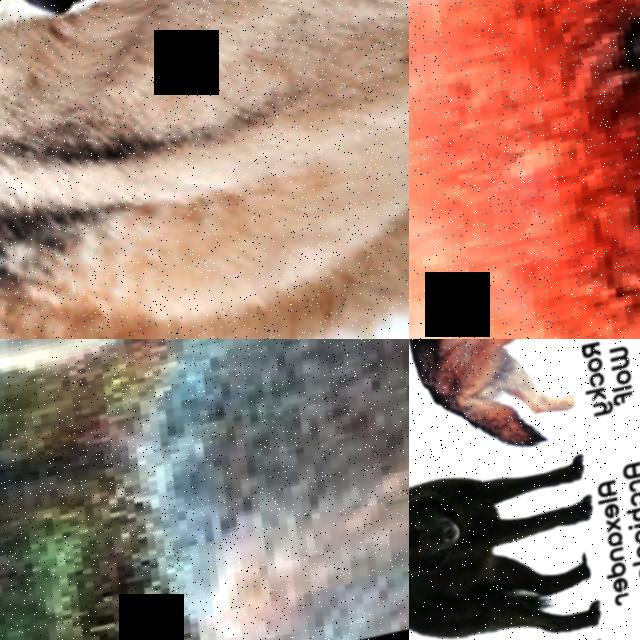dog: (409, 0, 640, 339), (409, 222, 640, 339)
wolf: (0, 0, 409, 339), (0, 339, 409, 640), (409, 412, 623, 640), (409, 339, 599, 496)
